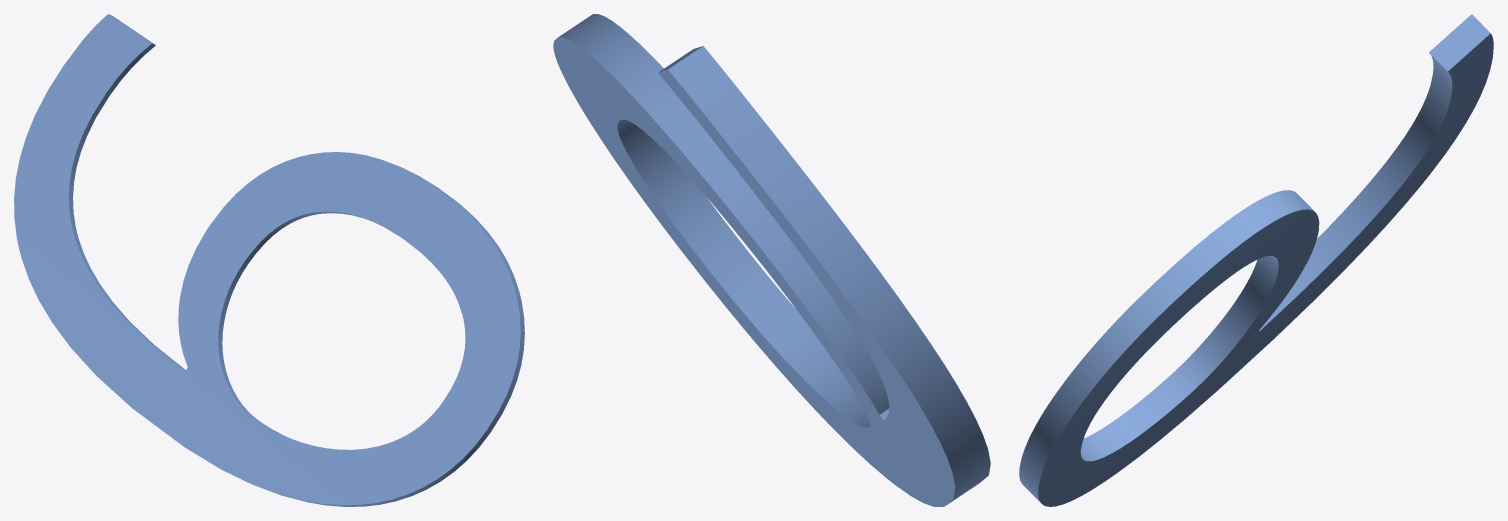
The model's file is New_Number_9.gltf.
The picture shows the model from 3 angles, left to right: view 1: azimuth 30°, elevation 25°; view 2: azimuth 150°, elevation 25°; view 3: azimuth 270°, elevation 25°; orthographic projection. The views are drawn at different scales.
Parts seen in each view (by area): view 1: Part 198; view 2: Part 198; view 3: Part 198.
Boxes of the visible parts, left/top/right/bottom form: Part 198: left=14, top=14, right=524, bottom=506; Part 198: left=553, top=14, right=990, bottom=506; Part 198: left=1019, top=14, right=1493, bottom=506.
Bounding box in the file's own units: 0.00422 × 0.00432 × 0.00424.
